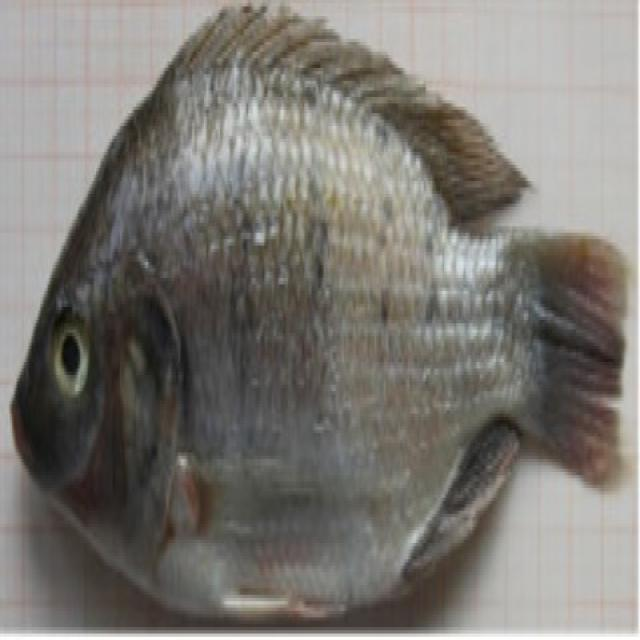ikan: (9, 0, 630, 621)
